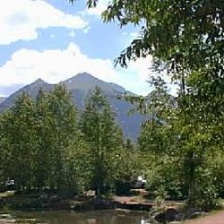neutral: (3, 1, 219, 219)
